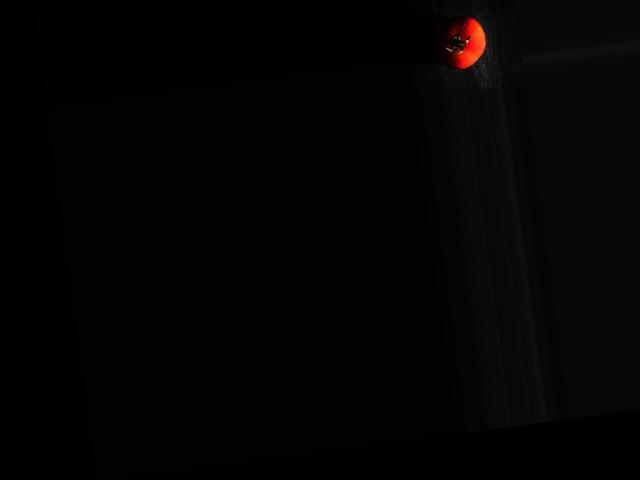tomato: (429, 13, 489, 72)
